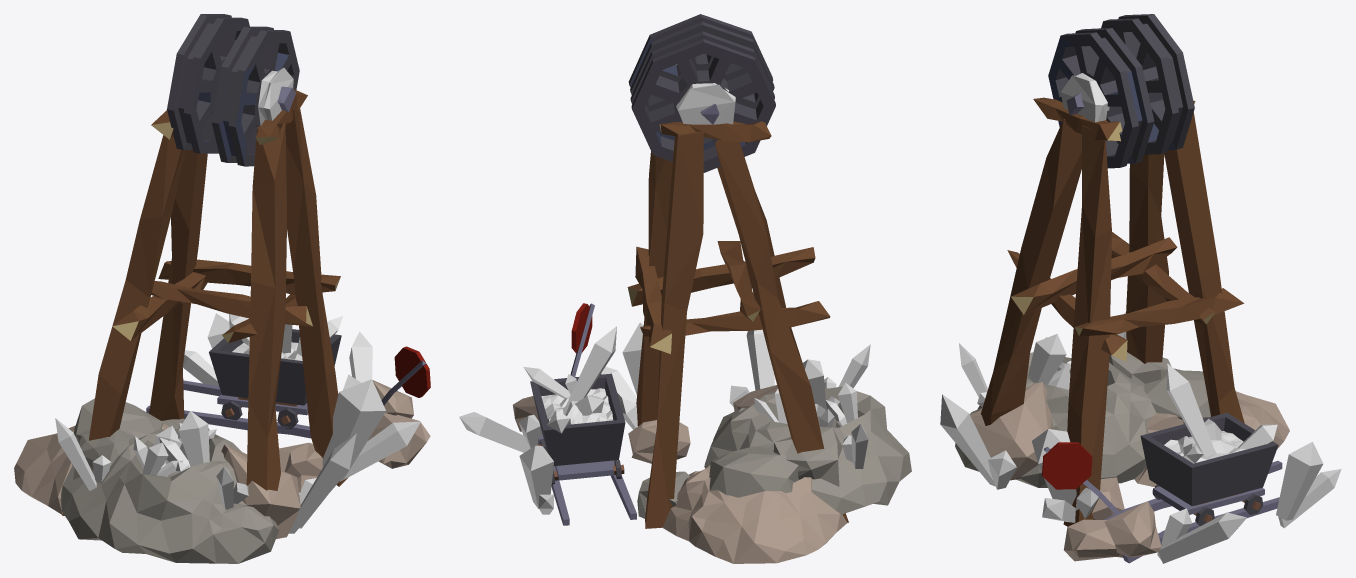
The model's file is crystal_mine.fbx.
3 views of the same model, side by side, from view 1: azimuth 30°, elevation 25°; view 2: azimuth 150°, elevation 25°; view 3: azimuth 270°, elevation 25° (orthographic). The views are drawn at different scales.
Parts seen in each view (by area): view 1: crystal_mine; view 2: crystal_mine; view 3: crystal_mine.
Part boxes in pixels (x1,y1,x2,y2): crystal_mine: (14,14,430,563); crystal_mine: (459,14,911,563); crystal_mine: (940,14,1341,563).
Bounding box in the file's own units: 926 × 1128 × 883.
